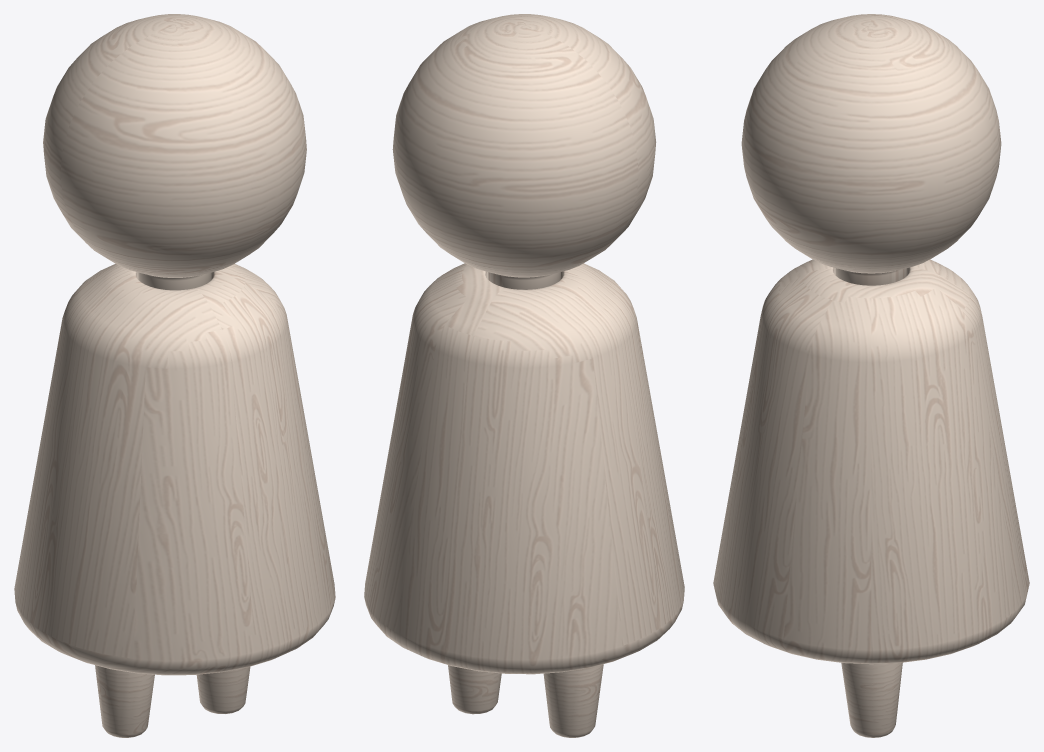
The model's file is person_rigged.fbx.
The picture shows the model from 3 angles, left to right: view 1: azimuth 30°, elevation 25°; view 2: azimuth 150°, elevation 25°; view 3: azimuth 270°, elevation 25°; orthographic projection.
Visible parts, largest first — view 1: Body, Head, Legs; view 2: Body, Head, Legs; view 3: Body, Head, Legs.
Part boxes in pixels (left/top/right/bottom): Body: left=14, top=264, right=335, bottom=675; Head: left=43, top=14, right=306, bottom=290; Legs: left=95, top=665, right=250, bottom=737; Body: left=364, top=263, right=684, bottom=674; Head: left=392, top=14, right=656, bottom=289; Legs: left=448, top=664, right=603, bottom=737; Body: left=713, top=259, right=1029, bottom=664; Head: left=741, top=14, right=1001, bottom=285; Legs: left=841, top=662, right=902, bottom=737.
Bounding box in the file's own units: 128 × 305 × 128.
